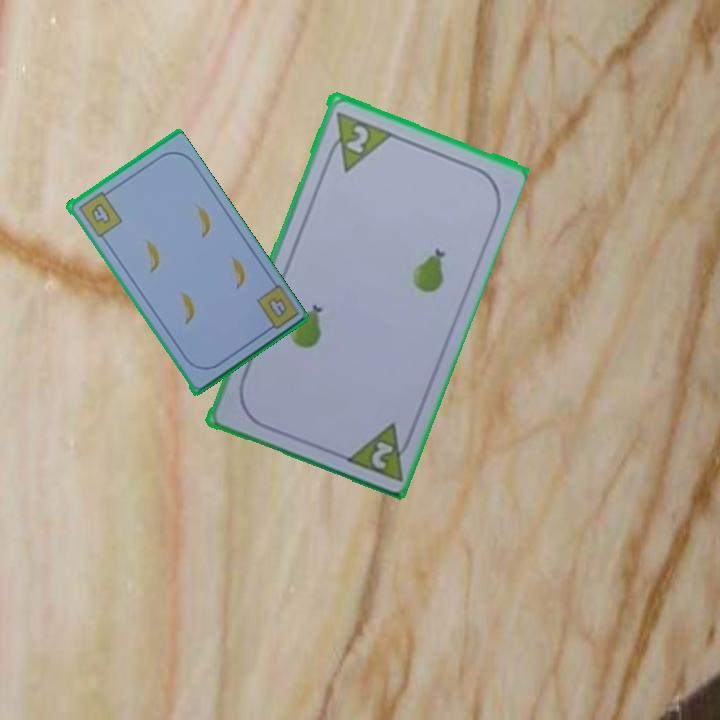2p: (340, 417, 417, 484), (342, 120, 372, 156)
4b: (74, 187, 125, 240), (252, 281, 300, 336)
